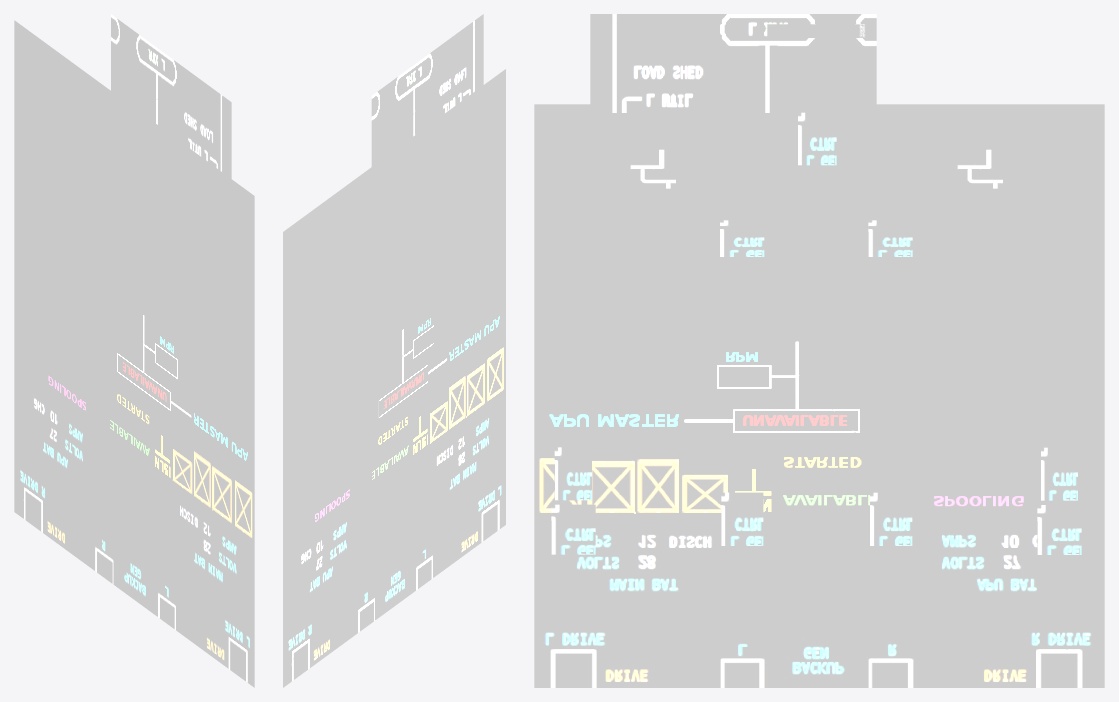
File: elec.glb
3 views of the same model, side by side, from view 1: azimuth 30°, elevation 25°; view 2: azimuth 150°, elevation 25°; view 3: azimuth 270°, elevation 25° (orthographic). The views are drawn at different scales.
Parts seen in each view (by area): view 1: elec (×2); view 2: elec (×2); view 3: elec (×2), drive, extpwr (×2), bgenr, bgenl, apugen, lgen, rgen, rbus, lbus, apu.spool, apu.started.
Boxes of the visible parts, x1=… form: elec (×2): x1=14, y1=14, x2=254, y2=687; elec (×2): x1=283, y1=14, x2=505, y2=687; elec (×2): x1=534, y1=14, x2=1104, y2=687; drive: x1=551, y1=504, x2=1081, y2=554; extpwr (×2): x1=720, y1=220, x2=912, y2=256; bgenr: x1=870, y1=492, x2=912, y2=545; bgenl: x1=721, y1=492, x2=763, y2=545; apugen: x1=798, y1=112, x2=836, y2=165; lgen: x1=554, y1=447, x2=591, y2=500; rgen: x1=1041, y1=447, x2=1077, y2=500; rbus: x1=957, y1=149, x2=1002, y2=188; lbus: x1=630, y1=149, x2=675, y2=188; apu.spool: x1=767, y1=24, x2=866, y2=37; apu.started: x1=767, y1=24, x2=866, y2=37.
Bounding box in the file's own units: 0.000432 × 0.2193 × 0.1681.
Materials: 1 (1 with a texture image).
